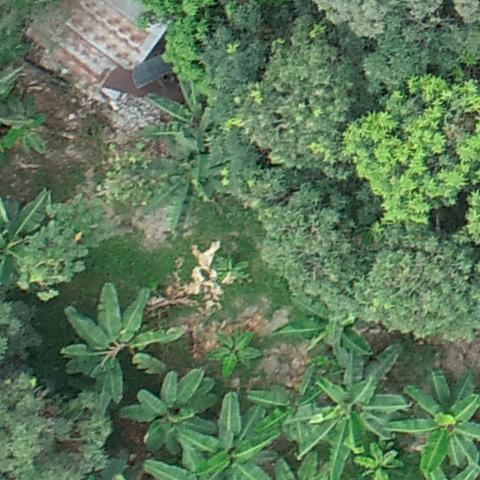Banana-plant: (56, 289, 182, 396), (297, 359, 411, 457), (382, 368, 480, 478), (179, 389, 285, 480), (119, 365, 224, 451), (283, 277, 376, 374), (205, 329, 264, 379), (351, 438, 409, 480), (209, 246, 254, 289)
